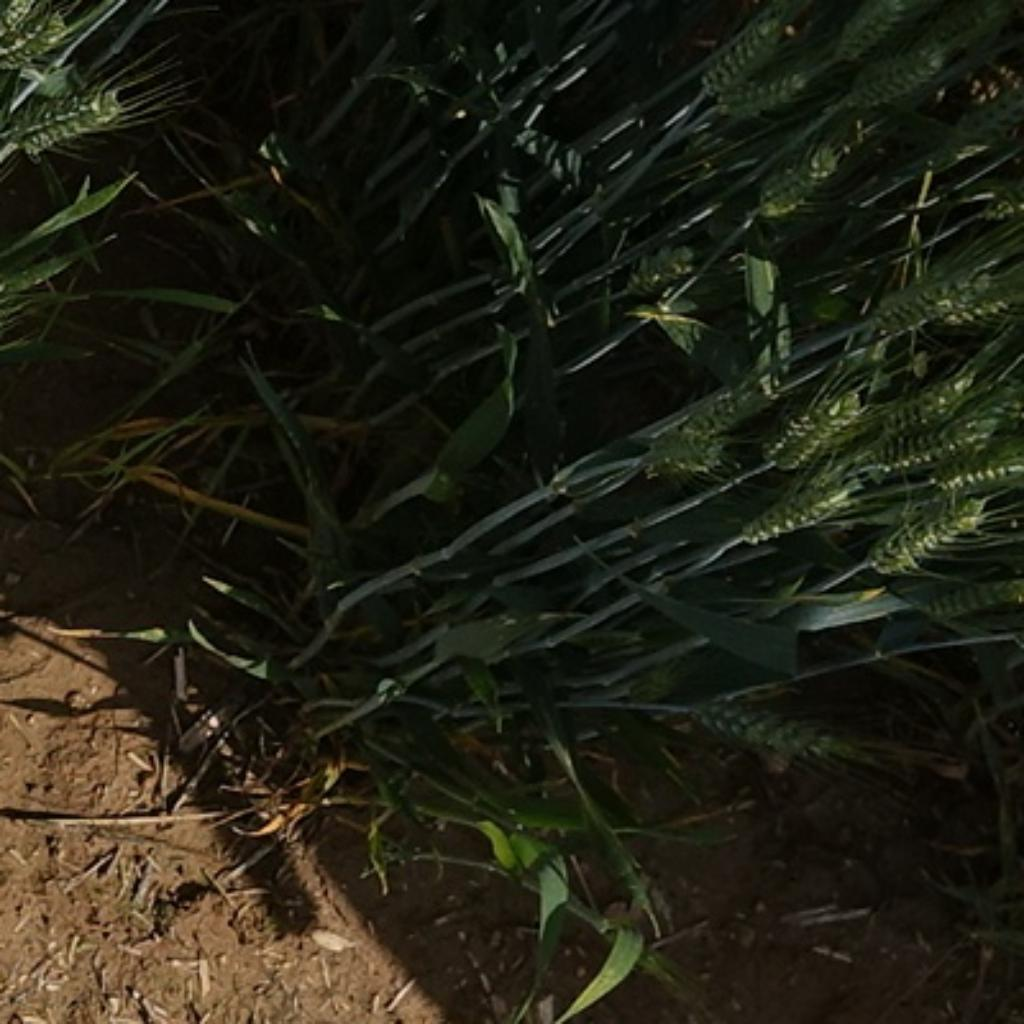0-0: (686, 686, 849, 765), (862, 476, 983, 576), (5, 66, 140, 153), (832, 257, 972, 339), (750, 130, 860, 220), (877, 261, 1024, 325), (768, 378, 872, 468), (734, 468, 857, 542), (867, 378, 980, 445), (696, 15, 785, 97), (931, 89, 1016, 174), (875, 422, 1008, 476), (847, 40, 947, 104), (727, 58, 814, 130), (682, 372, 769, 438), (647, 425, 726, 481), (0, 11, 78, 67), (633, 239, 695, 308), (937, 573, 1024, 621), (837, 2, 903, 61)
